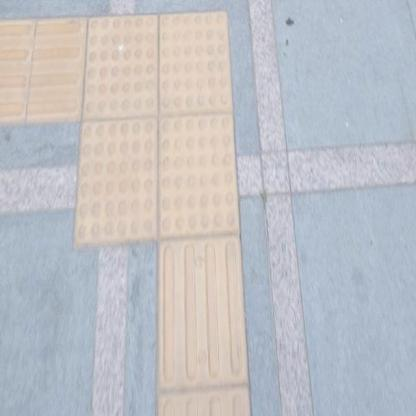podotacti: (55, 0, 262, 283), (156, 240, 250, 415), (0, 16, 81, 124)
